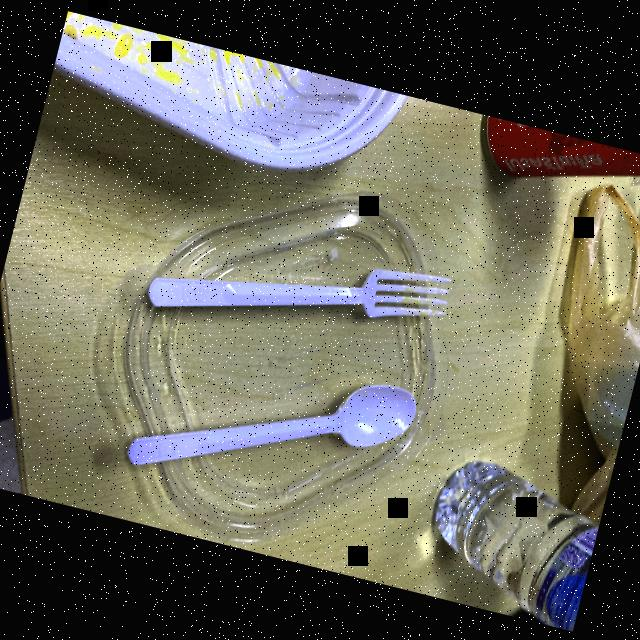plastic_spoon: (116, 184, 478, 400), (114, 320, 428, 539)
